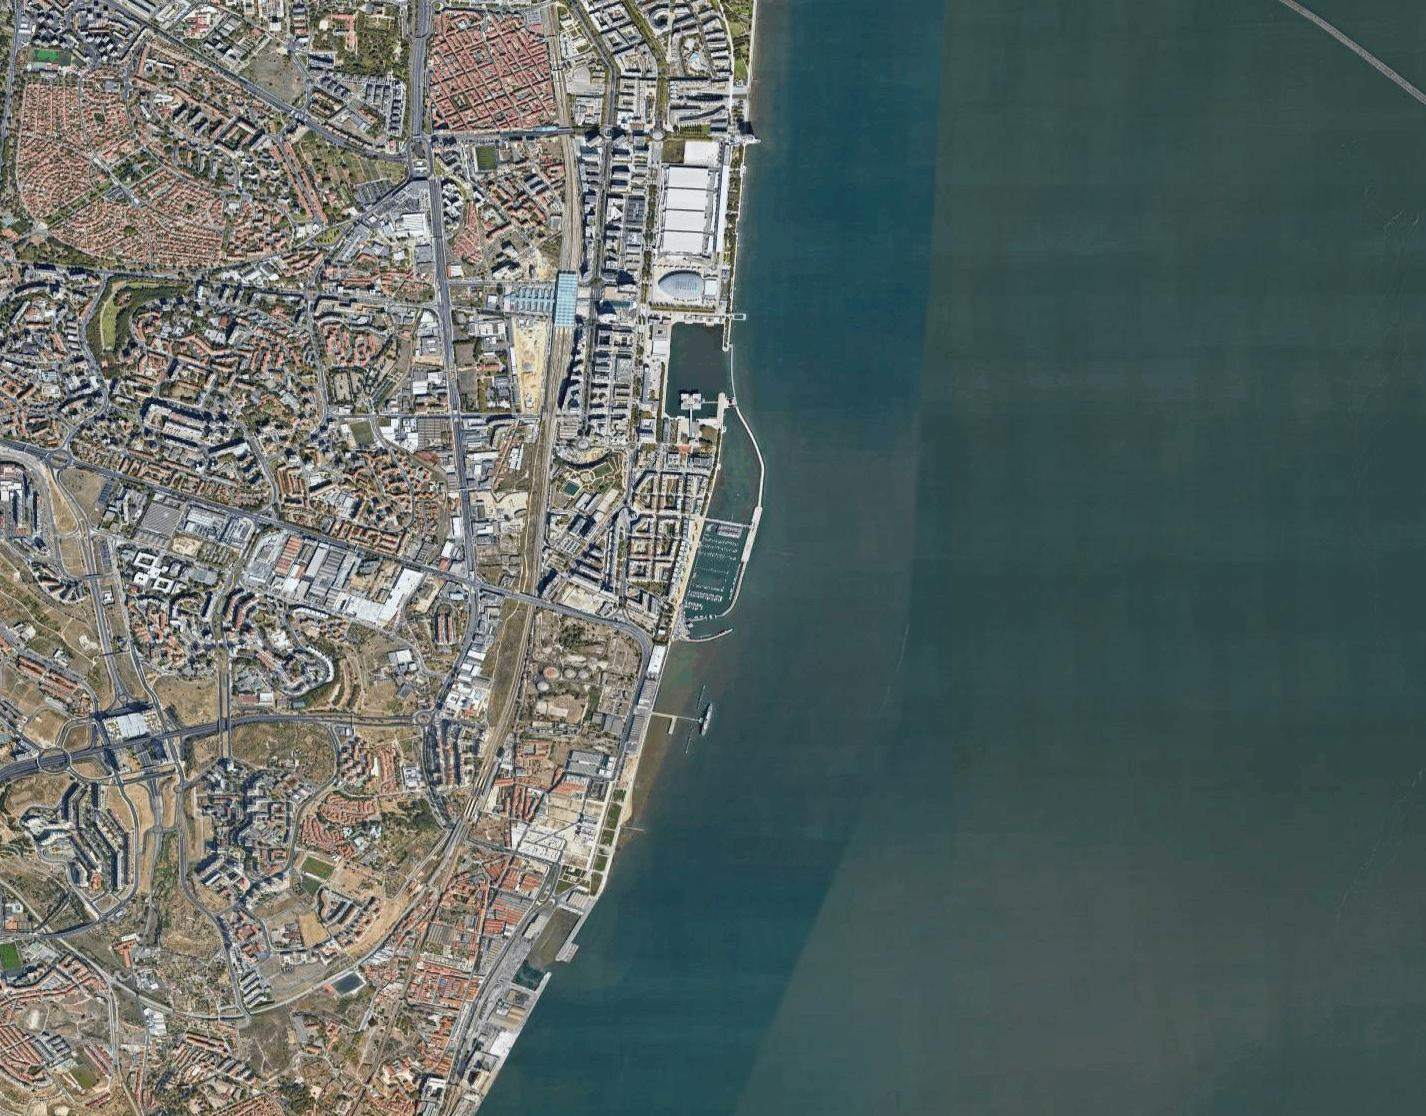harbor: (639, 320, 829, 771)
